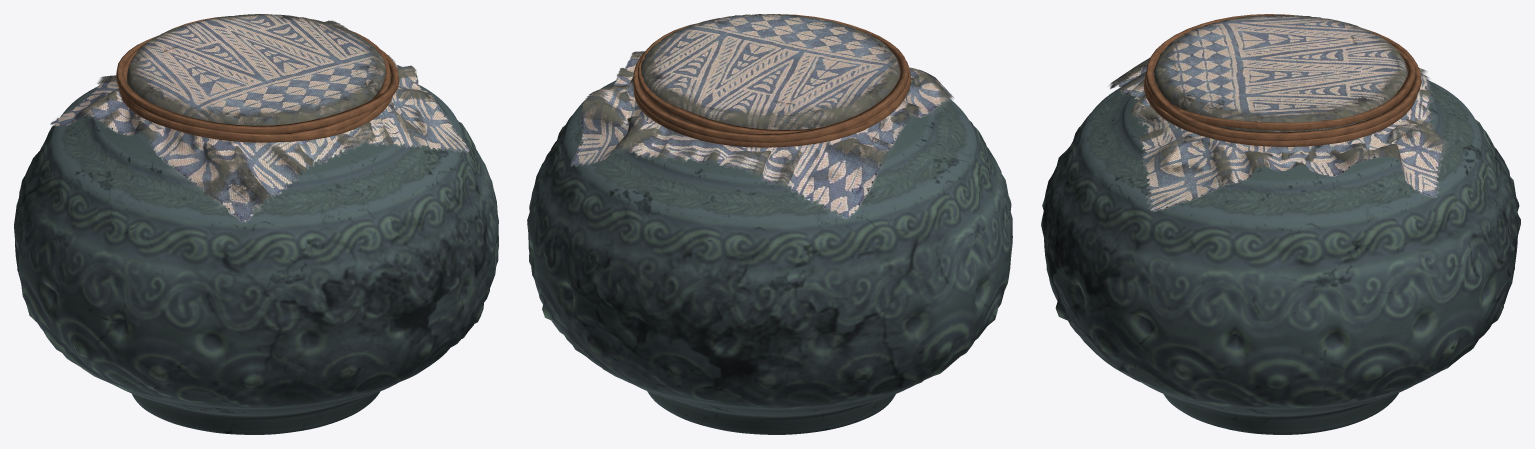
File: another_pot.glb
The picture shows the model from 3 angles, left to right: view 1: azimuth 30°, elevation 25°; view 2: azimuth 150°, elevation 25°; view 3: azimuth 270°, elevation 25°; orthographic projection.
Visible parts, largest first — view 1: Object_3, Object_2, Object_4; view 2: Object_3, Object_2, Object_4; view 3: Object_3, Object_2, Object_4.
Boxes of the visible parts, <box> form: Object_3: <box>14,84,498,434</box>; Object_2: <box>50,14,469,222</box>; Object_4: <box>116,16,399,142</box>; Object_3: <box>527,80,1012,434</box>; Object_2: <box>570,14,954,219</box>; Object_4: <box>633,14,911,147</box>; Object_3: <box>1041,79,1520,434</box>; Object_2: <box>1108,14,1447,211</box>; Object_4: <box>1143,14,1421,146</box>.
Size of the model in its own units: 30.9 by 22.6 by 30.67.
Materials: 3 (3 with a texture image).
